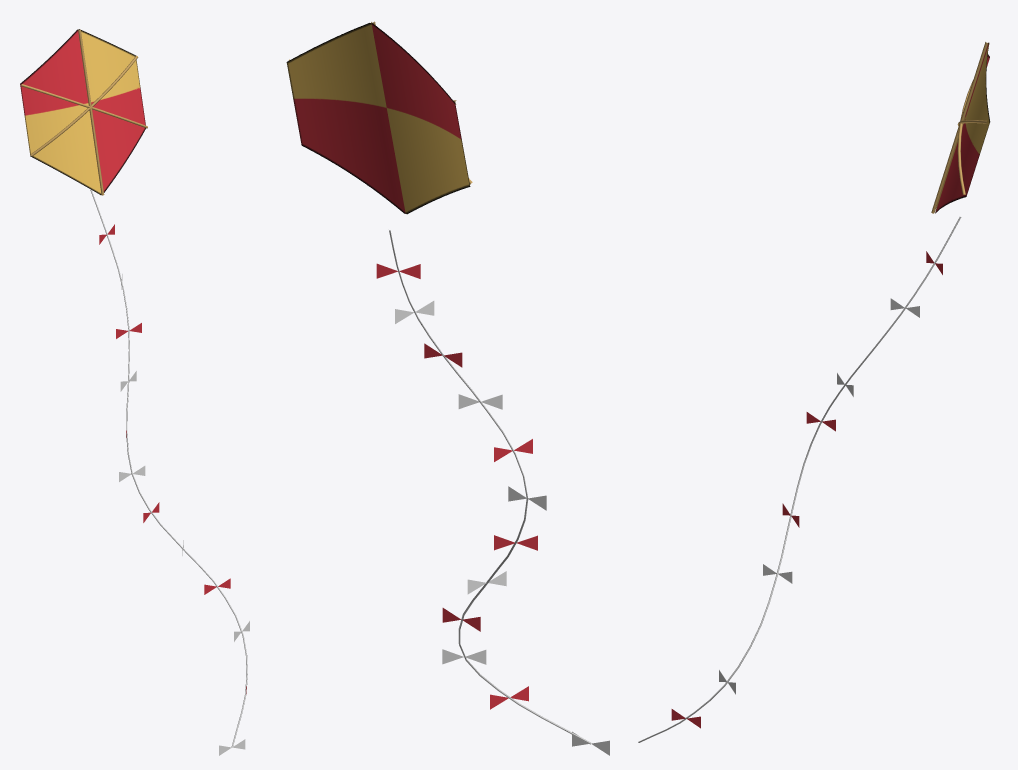
The model's file is raia-1.glb.
The picture shows the model from 3 angles, left to right: view 1: azimuth 30°, elevation 25°; view 2: azimuth 150°, elevation 25°; view 3: azimuth 270°, elevation 25°; orthographic projection. The views are drawn at different scales.
Parts seen in each view (by area): view 1: raia-1; view 2: raia-1; view 3: raia-1.
Part boxes in pixels (left/top/right/bottom): raia-1: left=20, top=29, right=249, bottom=755; raia-1: left=286, top=21, right=609, bottom=755; raia-1: left=638, top=42, right=990, bottom=742.
Size of the model in its own units: 1.19 by 5.81 by 2.73.
5 materials, 1 textured.
